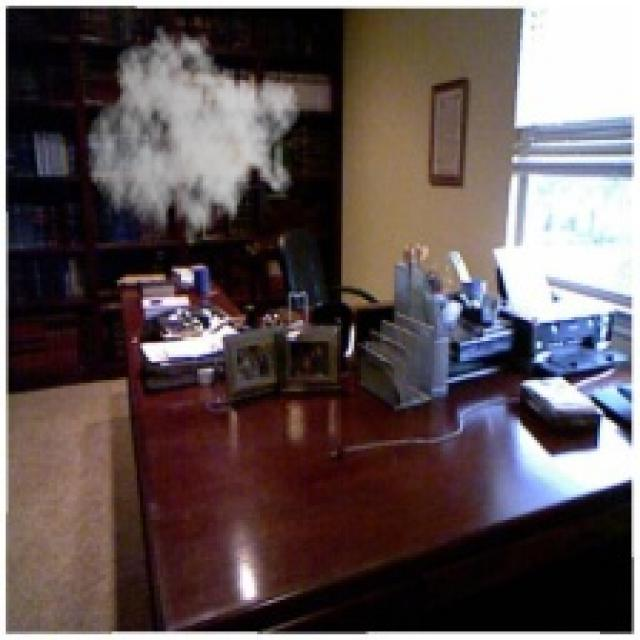smoke: (86, 23, 303, 260)
